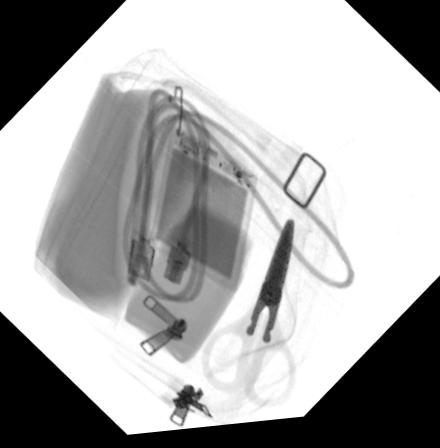Powerbank: (149, 131, 260, 297)
Scissors: (196, 221, 296, 410)
